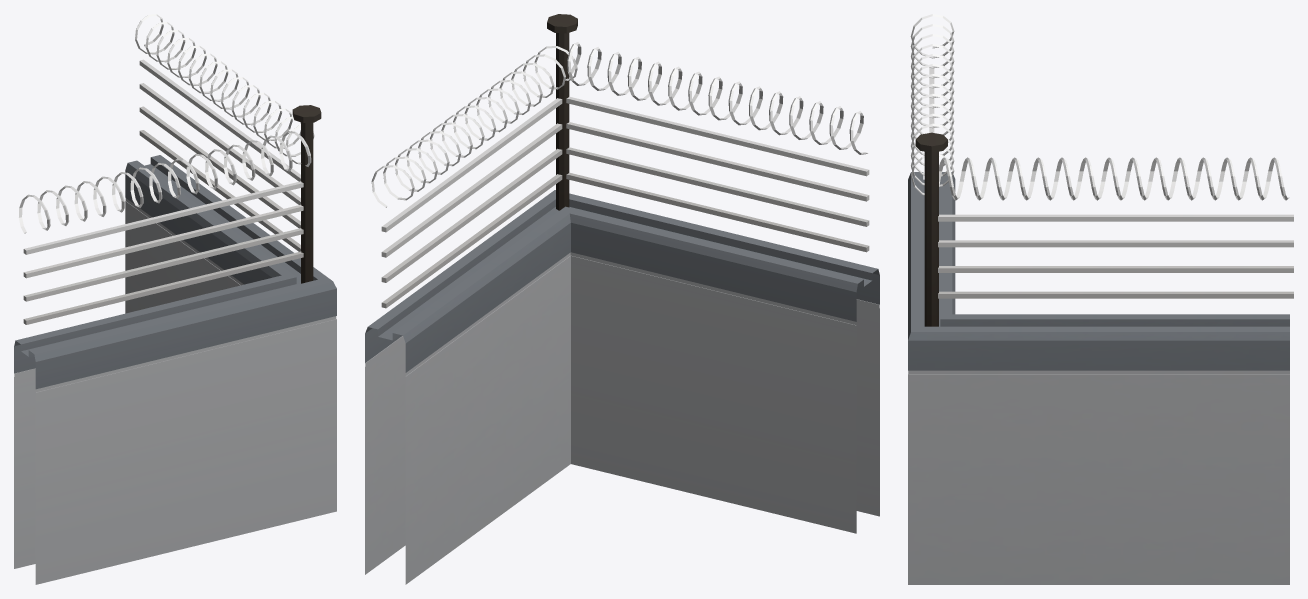
The picture shows the model from 3 angles, left to right: view 1: azimuth 30°, elevation 25°; view 2: azimuth 150°, elevation 25°; view 3: azimuth 270°, elevation 25°; orthographic projection. The views are drawn at different scales.
Parts seen in each view (by area): view 1: curva1; view 2: curva1; view 3: curva1.
Boxes of the visible parts, x1,y1,x2,y2 form: curva1: (14, 14, 336, 584); curva1: (365, 14, 879, 584); curva1: (908, 14, 1293, 584).
Size of the model in its own units: 1751 by 2200 by 1767.
